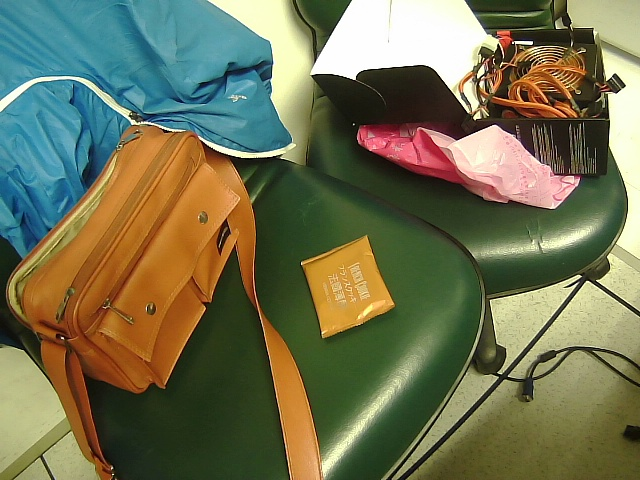frenchcookie: (287, 233, 416, 337)
